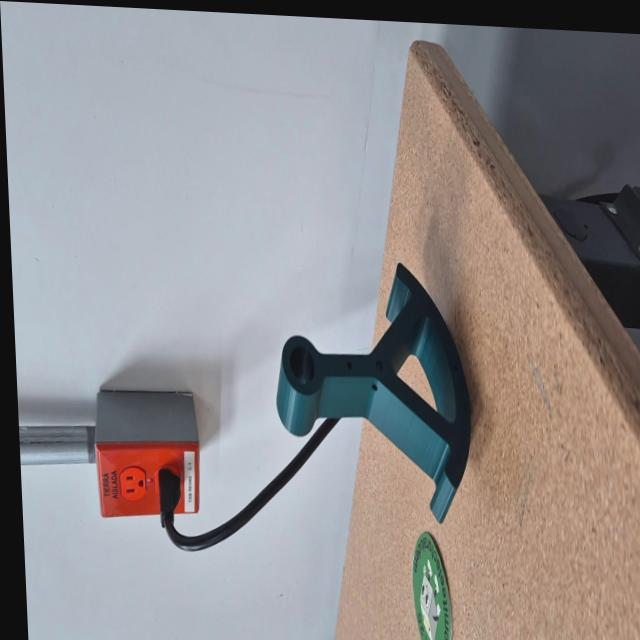haptic: (269, 252, 476, 527)
